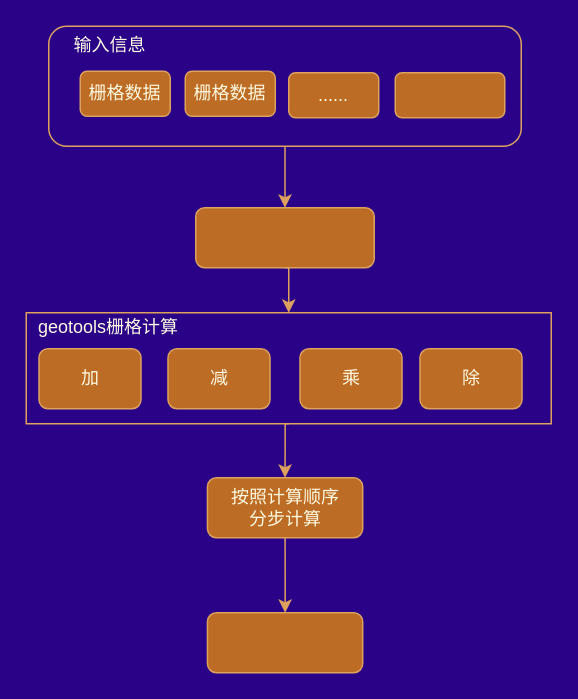
Image size: 578x699. Some labels were removed from this diagram. The box of each missing label's shape, as (x1, y1, x2, y2) in pixels:
中缀表达式转 后缀表达式: (194, 206, 374, 268)
计算公式: (394, 71, 505, 118)
输出结果: (206, 611, 363, 673)
